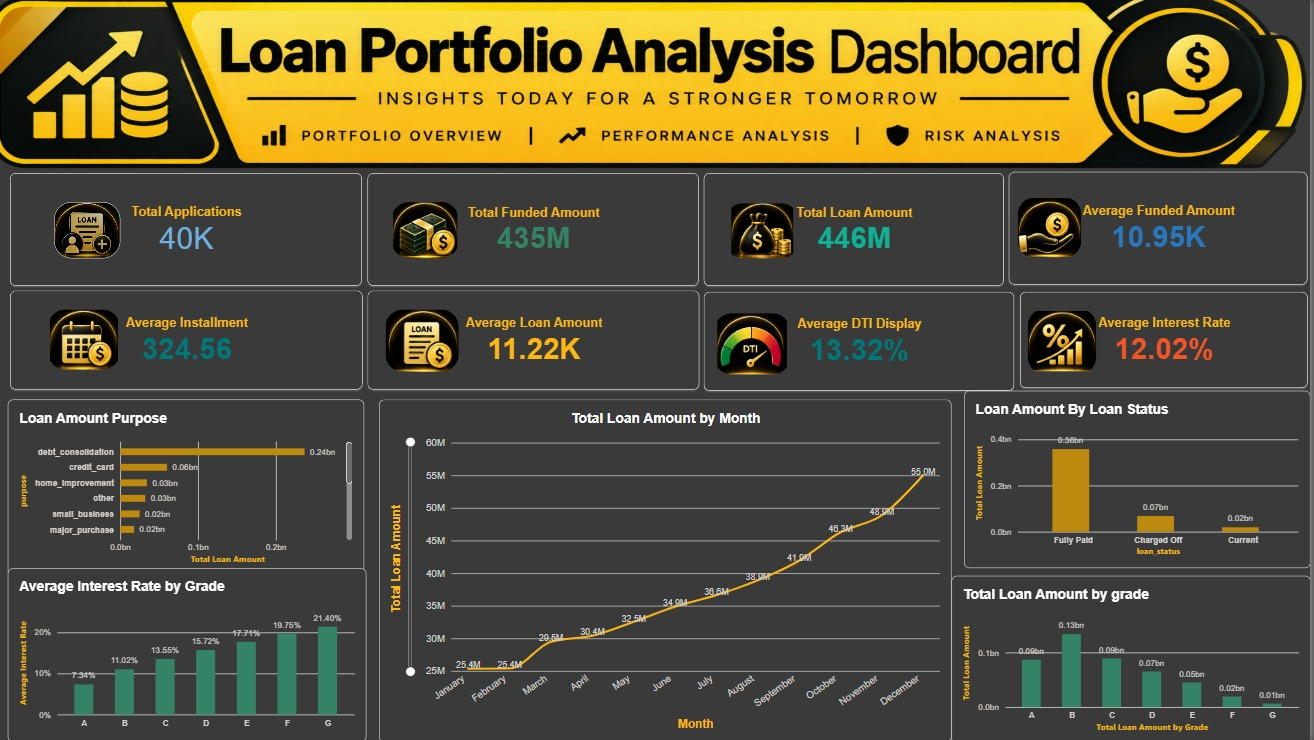

The page's visual inventory and layout, read from the dashboard file:
{"tool":"powerbi","page":{"name":"Loan  Portfolio Overview","canvas":[1920,1080],"ordinal":0},"visuals":[{"type":"cardVisual","fields":{"Data":["Measures (2).Total Applications"]},"box":[35,251.1,516.6,170.8],"z":0},{"type":"cardVisual","fields":{"Data":["Measures (2).Total Funded Amount"]},"box":[551.9,251.5,486.8,170.1],"z":1000},{"type":"cardVisual","fields":{"Data":["Measures (2).Total Loan Amount"]},"box":[1038.7,251.5,441.6,170.1],"z":2000},{"type":"cardVisual","fields":{"Data":["Measures (2).Average Funded Amount"]},"box":[1480.3,249.7,439.7,170.1],"z":3000},{"type":"cardVisual","fields":{"Data":["Measures (2).Average Loan Amount"]},"box":[551.6,422,487.8,150.3],"z":4000},{"type":"cardVisual","fields":{"Data":["Measures (2).Average Installment"]},"box":[34.4,421.7,517.6,150.2],"z":5000},{"type":"cardVisual","fields":{"Data":["Measures (2).Average Interest Rate"]},"box":[1496.6,423.5,423.5,146.6],"z":6000},{"type":"cardVisual","fields":{"Data":["Measures (2).Average DTI Display"]},"box":[1039.5,424,456.9,150.3],"z":7000},{"type":"clusteredBarChart","title":"Loan Amount Purpose","fields":{"Category":["Finance_1.purpose"],"Y":["Measures (2).Total Loan Amount"]},"box":[34.4,571.9,515.8,255.2],"z":8000},{"type":"clusteredColumnChart","title":"Loan Amount By Loan Status","fields":{"Category":["Finance_1.loan_status"],"Y":["Measures (2).Total Loan Amount"]},"box":[1418.8,570,501.3,257],"z":9000},{"type":"clusteredColumnChart","fields":{"Category":["Finance_1.grade"],"Y":["Measures (2).Total Loan Amount"]},"box":[1400.7,837.9,520,243],"z":10000},{"type":"clusteredColumnChart","title":"Average Interest Rate by Grade","fields":{"Category":["Finance_1.grade"],"Y":["Measures (2).Average Interest Rate"]},"box":[34.4,827,519.4,251.5],"z":11000},{"type":"textbox","box":[808.9,815.1,20.6,263.5],"z":12000},{"type":"textbox","box":[99.5,95.9,1547.3,123.1],"z":13000},{"type":"textbox","box":[100.9,139.2,605.2,181.6],"z":14000},{"type":"shape","box":[1631.2,50.9,252.8,89.1],"z":15000},{"type":"textbox","box":[68.8,65.1,354.7,132.1],"z":16000},{"type":"textbox","box":[1669.4,65.5,251,101.8],"z":17000},{"type":"lineChart","title":"Total Loan Amount by Month","fields":{"Y":["Measures (2).Total Loan Amount"],"Category":["Finance_1.issue_d.Variation.Date Hierarchy.Month"]},"box":[571.9,582.7,828.8,495.8],"z":18000},{"type":"image","box":[0,0,1920.1,249.7],"z":19000},{"type":"image","box":[101.3,296.8,95.9,81.4],"z":20000},{"type":"image","box":[589.9,296.8,97.7,81.4],"z":21000},{"type":"image","box":[1073.1,298.6,106.8,79.6],"z":22000},{"type":"image","box":[1496.6,289.5,92.3,88.7],"z":23000},{"type":"image","box":[1056.8,457.8,110.4,88.7],"z":24000},{"type":"image","box":[92.3,452.4,105,86.9],"z":25000},{"type":"image","box":[1511.1,450.6,99.5,95.9],"z":26000},{"type":"image","box":[580.9,452.4,106.8,90.5],"z":27000}]}

Visuals, with their boxes in screenshot pixels (x1, y1, x2, y2), scaled from the page's 1920x1080 canvas onto the 1314x740 screenshot:
cardVisual - Measures (2).Total Applications: <bbox>24, 172, 378, 289</bbox>
cardVisual - Measures (2).Total Funded Amount: <bbox>378, 172, 711, 289</bbox>
cardVisual - Measures (2).Total Loan Amount: <bbox>711, 172, 1013, 289</bbox>
cardVisual - Measures (2).Average Funded Amount: <bbox>1013, 171, 1313, 288</bbox>
cardVisual - Measures (2).Average Loan Amount: <bbox>378, 289, 711, 392</bbox>
cardVisual - Measures (2).Average Installment: <bbox>24, 289, 378, 392</bbox>
cardVisual - Measures (2).Average Interest Rate: <bbox>1024, 290, 1313, 391</bbox>
cardVisual - Measures (2).Average DTI Display: <bbox>711, 291, 1024, 394</bbox>
"Loan Amount Purpose" clusteredBarChart: <bbox>24, 392, 377, 567</bbox>
"Loan Amount By Loan Status" clusteredColumnChart: <bbox>971, 391, 1313, 567</bbox>
clusteredColumnChart - Finance_1.grade x Measures (2).Total Loan Amount: <bbox>959, 574, 1313, 739</bbox>
"Average Interest Rate by Grade" clusteredColumnChart: <bbox>24, 567, 379, 739</bbox>
textbox: <bbox>554, 558, 568, 739</bbox>
textbox: <bbox>68, 66, 1127, 150</bbox>
textbox: <bbox>69, 95, 483, 220</bbox>
shape: <bbox>1116, 35, 1289, 96</bbox>
textbox: <bbox>47, 45, 290, 135</bbox>
textbox: <bbox>1142, 45, 1313, 115</bbox>
"Total Loan Amount by Month" lineChart: <bbox>391, 399, 959, 739</bbox>
image: <bbox>0, 0, 1313, 171</bbox>
image: <bbox>69, 203, 135, 259</bbox>
image: <bbox>404, 203, 471, 259</bbox>
image: <bbox>734, 205, 807, 259</bbox>
image: <bbox>1024, 198, 1087, 259</bbox>
image: <bbox>723, 314, 799, 374</bbox>
image: <bbox>63, 310, 135, 370</bbox>
image: <bbox>1034, 309, 1102, 374</bbox>
image: <bbox>398, 310, 471, 372</bbox>
